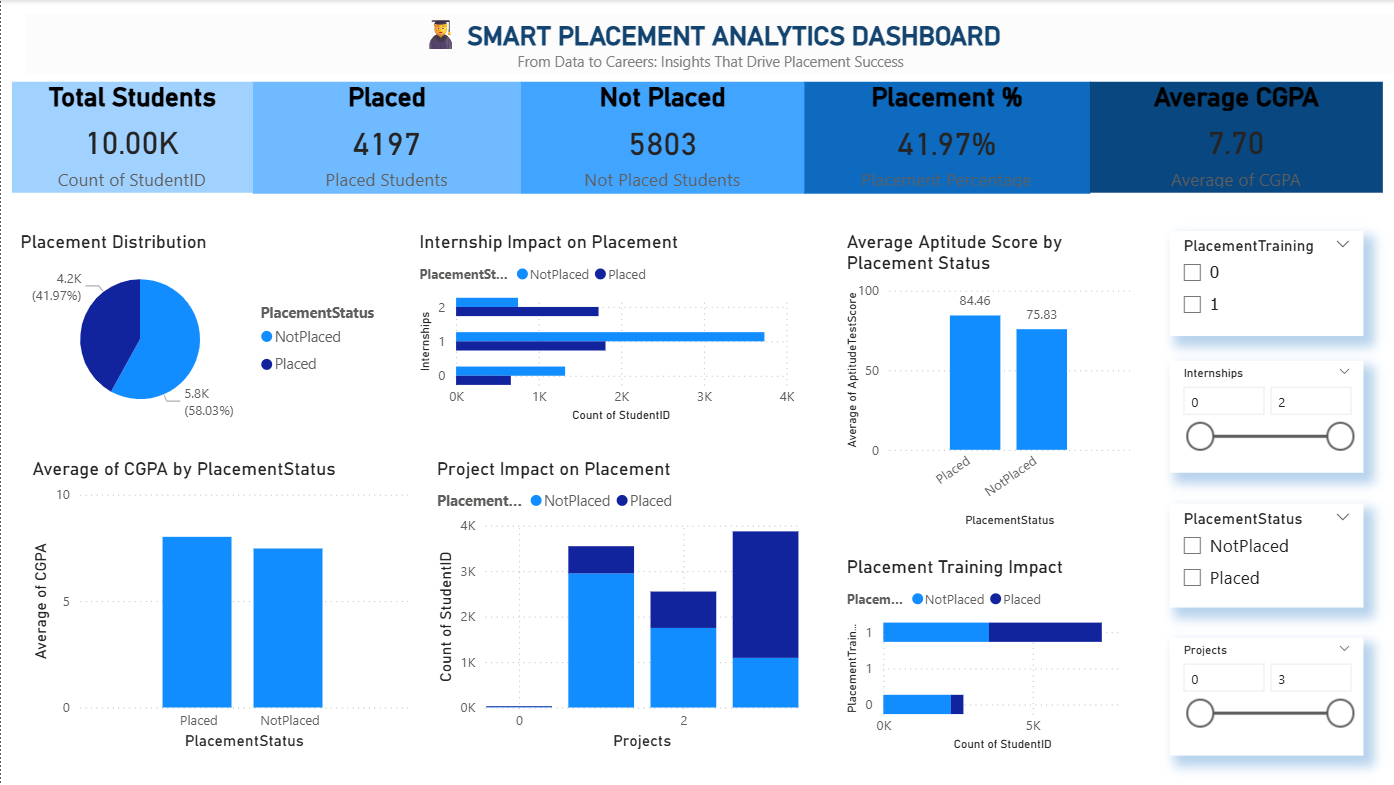

This screenshot's page, from the dashboard's own definition file:
{"tool":"powerbi","page":{"name":"Page 1","canvas":[1280,720],"ordinal":0},"visuals":[{"type":"card","title":"Total Students","fields":{"Values":["CountNonNull(Placemt Report.StudentID)"]},"box":[10,75.2,221.1,102],"z":0},{"type":"card","title":"Placed","fields":{"Values":["Placemt Report.Placed Students"]},"box":[230.8,74.6,246.4,102.4],"z":1000},{"type":"card","title":"Not Placed","fields":{"Values":["Placemt Report.Not Placed Students"]},"box":[477.1,74.6,260.3,102.4],"z":2000},{"type":"card","title":"Placement %","fields":{"Values":["Placemt Report.Placement Percentage"]},"box":[737.4,74.6,262,102.4],"z":3000},{"type":"card","title":"Average CGPA","fields":{"Values":["Avg(Placemt Report.CGPA)"]},"box":[999.2,75.2,269.1,102],"z":4000},{"type":"pieChart","title":"Placement Distribution","fields":{"Y":["CountNonNull(Placemt Report.StudentID)"],"Category":["Placemt Report.PlacementStatus"]},"box":[13,212.1,341.1,179],"z":5000},{"type":"clusteredColumnChart","fields":{"Category":["Placemt Report.PlacementStatus"],"Y":["Avg(Placemt Report.CGPA)"]},"box":[24,420.1,355.1,273.1],"z":6000},{"type":"clusteredBarChart","title":"Internship Impact on Placement","fields":{"Category":["Placemt Report.Internships"],"Y":["CountNonNull(Placemt Report.StudentID)"],"Series":["Placemt Report.PlacementStatus"]},"box":[379.1,212.1,354.1,179],"z":7000},{"type":"columnChart","title":"Project Impact on Placement","fields":{"Category":["Placemt Report.Projects"],"Y":["CountNonNull(Placemt Report.StudentID)"],"Series":["Placemt Report.PlacementStatus"]},"box":[395.1,420.1,342.1,273.1],"z":8000},{"type":"barChart","title":"Placement Training Impact","fields":{"Category":["Placemt Report.PlacementTraining"],"Series":["Placemt Report.PlacementStatus"],"Y":["CountNonNull(Placemt Report.StudentID)"]},"box":[771.2,510.1,270.1,183],"z":9000},{"type":"clusteredColumnChart","title":"Average Aptitude Score by Placement Status","fields":{"Y":["Avg(Placemt Report.AptitudeTestScore)"],"Category":["Placemt Report.PlacementStatus"]},"box":[771.2,212.1,270.1,276.1],"z":10000},{"type":"slicer","fields":{"Values":["Placemt Report.PlacementTraining"]},"box":[1072.3,212.1,178,96],"z":11000},{"type":"slicer","fields":{"Values":["Placemt Report.Internships"]},"box":[1072.3,331.1,178,103],"z":12000},{"type":"slicer","fields":{"Values":["Placemt Report.PlacementStatus"]},"box":[1072.3,462.1,178,95],"z":13000},{"type":"slicer","fields":{"Values":["Placemt Report.Projects"]},"box":[1072.3,585.1,178,108],"z":14000},{"type":"textbox","title":"🧑🎓   SMART PLACEMENT ANALYTICS DASHBOARD","box":[22,13,1258.3,54],"z":15000}]}

Visuals, with their boxes in screenshot pixels (x1, y1, x2, y2), scaled from the page's 1280x720 canvas onto the 1394x785 screenshot:
"Total Students" card: Rect(11, 82, 252, 193)
"Placed" card: Rect(251, 81, 520, 193)
"Not Placed" card: Rect(520, 81, 803, 193)
"Placement %" card: Rect(803, 81, 1088, 193)
"Average CGPA" card: Rect(1088, 82, 1381, 193)
"Placement Distribution" pieChart: Rect(14, 231, 386, 426)
clusteredColumnChart - Placemt Report.PlacementStatus x Avg(Placemt Report.CGPA): Rect(26, 458, 413, 756)
"Internship Impact on Placement" clusteredBarChart: Rect(413, 231, 799, 426)
"Project Impact on Placement" columnChart: Rect(430, 458, 803, 756)
"Placement Training Impact" barChart: Rect(840, 556, 1134, 756)
"Average Aptitude Score by Placement Status" clusteredColumnChart: Rect(840, 231, 1134, 532)
slicer - Placemt Report.PlacementTraining: Rect(1168, 231, 1362, 336)
slicer - Placemt Report.Internships: Rect(1168, 361, 1362, 473)
slicer - Placemt Report.PlacementStatus: Rect(1168, 504, 1362, 607)
slicer - Placemt Report.Projects: Rect(1168, 638, 1362, 756)
"🧑🎓   SMART PLACEMENT ANALYTICS DASHBOARD" textbox: Rect(24, 14, 1393, 73)
